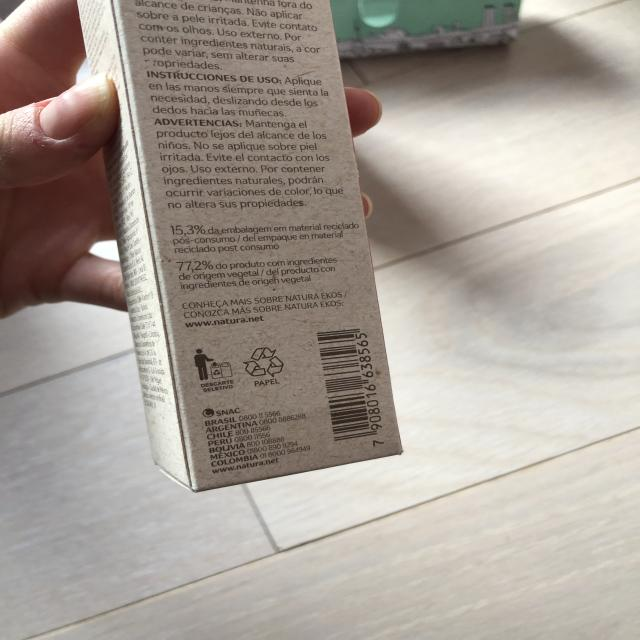cardboard: (74, 0, 404, 495)
